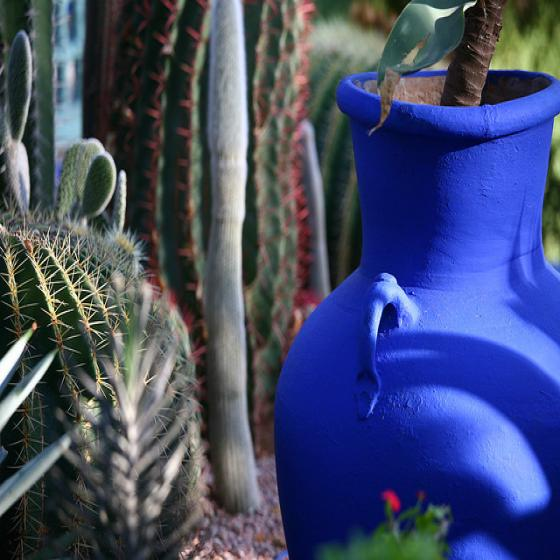potted plant: (272, 1, 560, 553)
vase: (271, 64, 560, 553)
